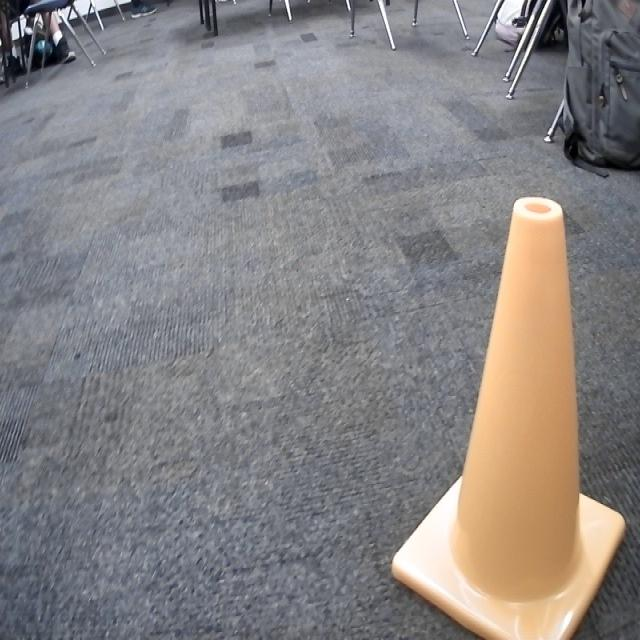cone: (392, 197, 629, 640)
